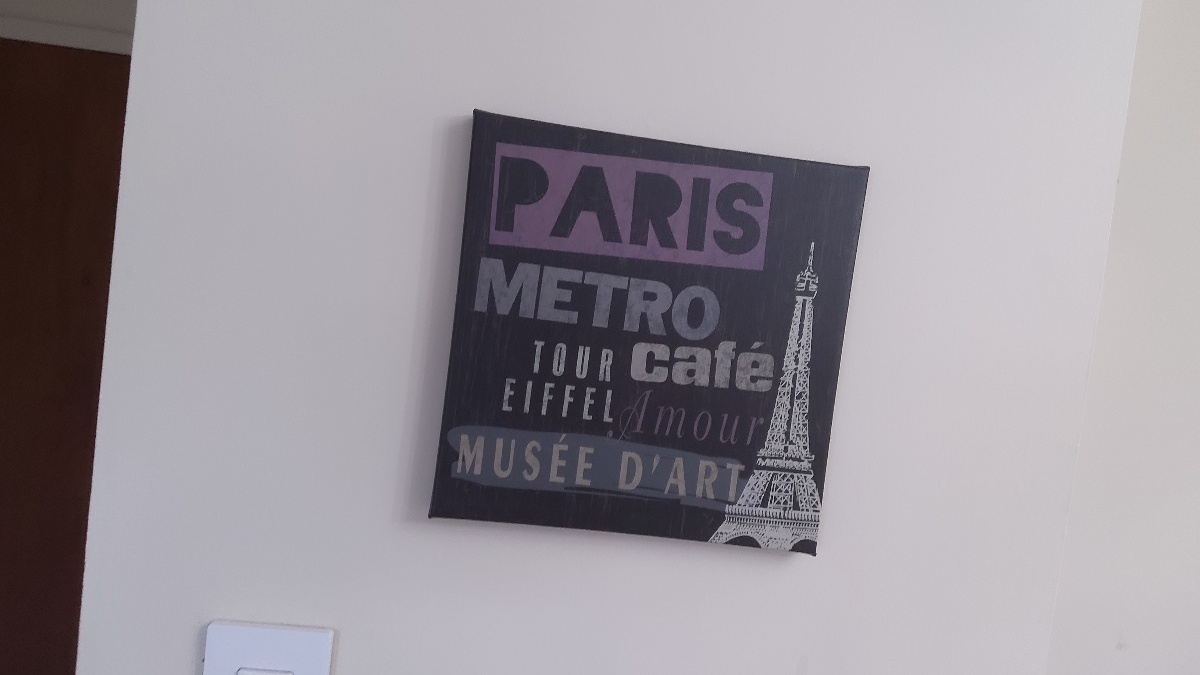poster: (436, 94, 875, 570)
